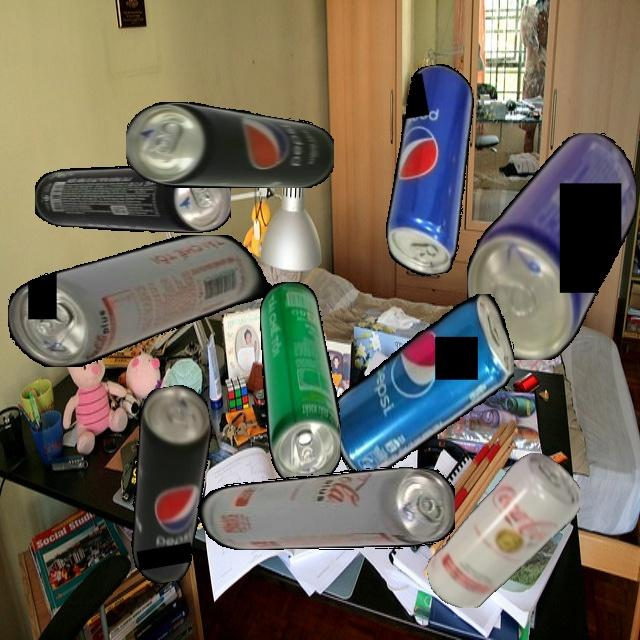debris: (466, 132, 636, 360), (8, 234, 274, 367), (333, 293, 514, 478), (359, 60, 502, 281), (106, 381, 236, 587), (426, 452, 580, 608), (194, 467, 455, 550), (126, 101, 334, 188), (259, 281, 341, 484), (34, 165, 231, 233)
